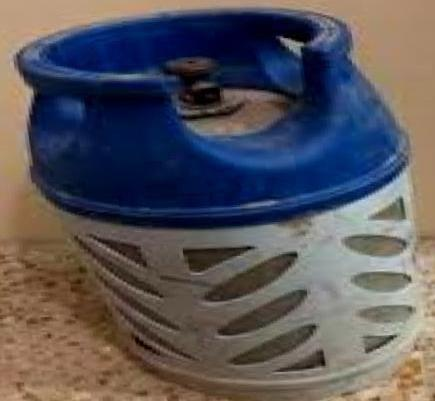cylinder: (1, 0, 435, 401)
